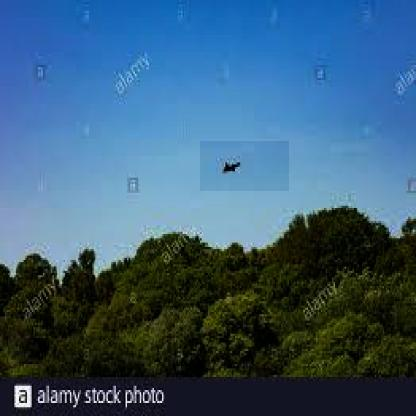Drone: (200, 141, 289, 191)
